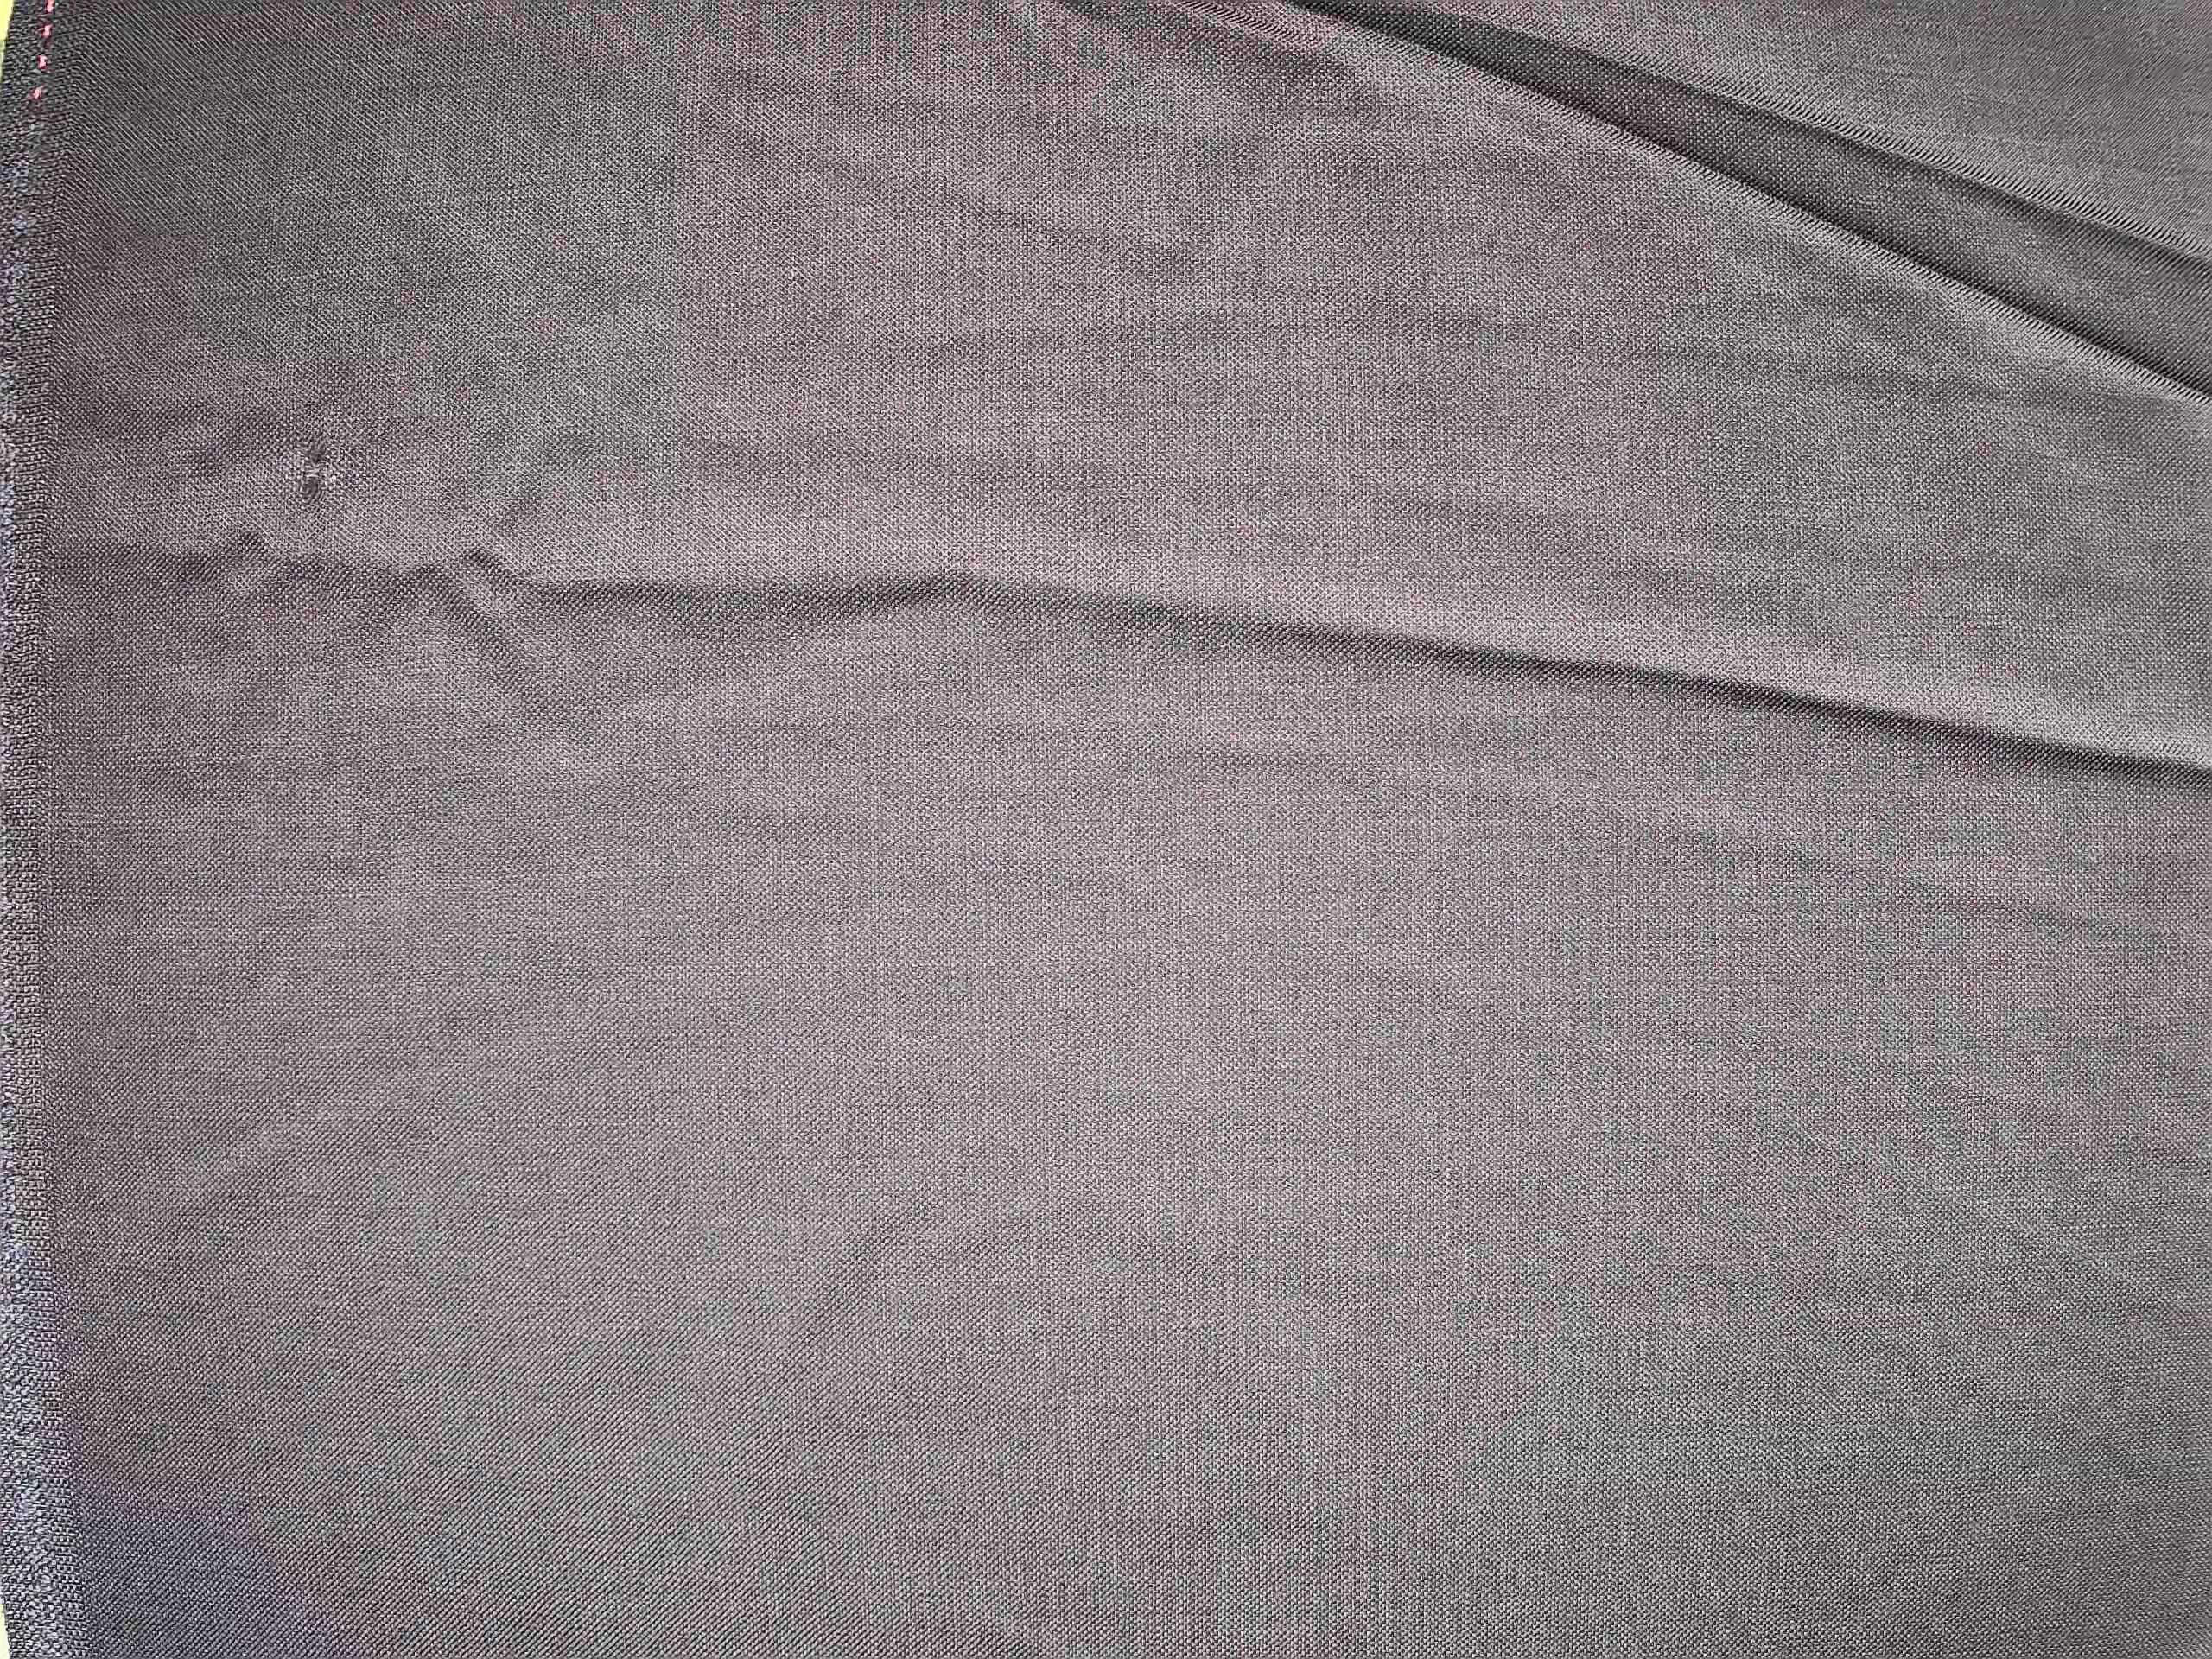brushed-hole: (256, 383, 371, 566)
